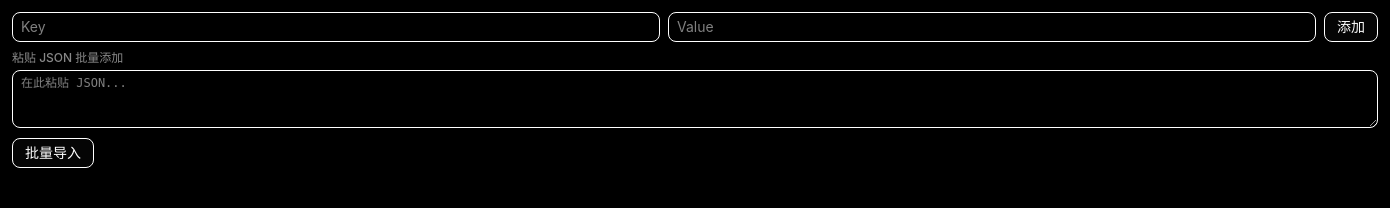
Test: KeyValueEditor › shows error for empty key
Step 1. Click the button with test id "kv-add" → (1351, 27), box x1=1324 y1=12 x2=1378 y2=42
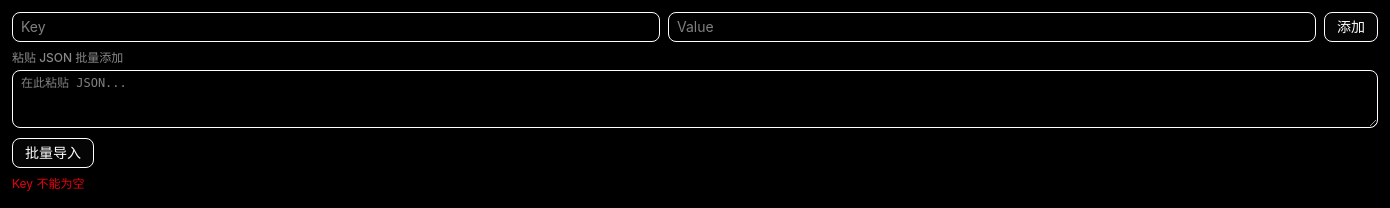
Check: the text with test id "kv-error" reads "Key 不能为空", box x1=12 y1=176 x2=84 y2=191
